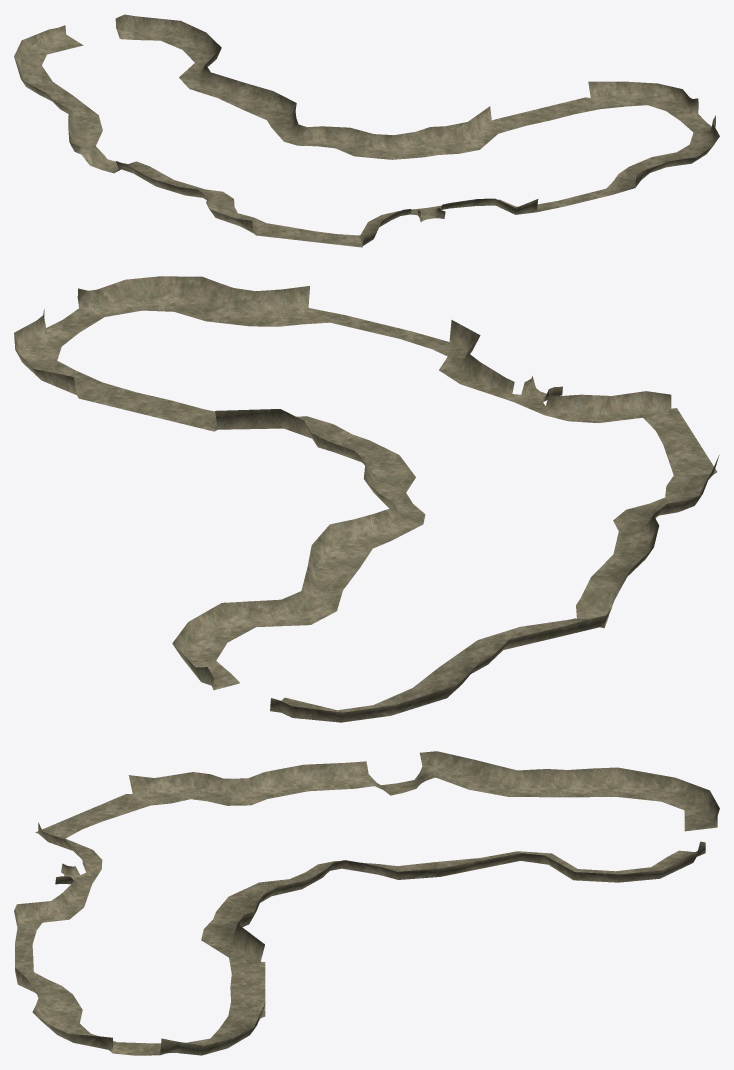
The model's file is EKH_JAIL_PS_JA_WALL_TRIM9484877.fbx.
3 renders of one model, top to bottom at view 1: azimuth 30°, elevation 25°; view 2: azimuth 150°, elevation 25°; view 3: azimuth 270°, elevation 25°, orthographic. The views are drawn at different scales.
Parts seen in each view (by area): view 1: EKH_JAIL_PS_JA_WALL_TRIM9484877; view 2: EKH_JAIL_PS_JA_WALL_TRIM9484877; view 3: EKH_JAIL_PS_JA_WALL_TRIM9484877.
Part boxes in pixels (left/top/right/bottom): EKH_JAIL_PS_JA_WALL_TRIM9484877: left=14, top=14, right=719, bottom=247; EKH_JAIL_PS_JA_WALL_TRIM9484877: left=14, top=276, right=719, bottom=722; EKH_JAIL_PS_JA_WALL_TRIM9484877: left=14, top=751, right=719, bottom=1055.
Size of the model in its own units: 270165 by 12809 by 273566.
Materials: 1 (1 with a texture image).
